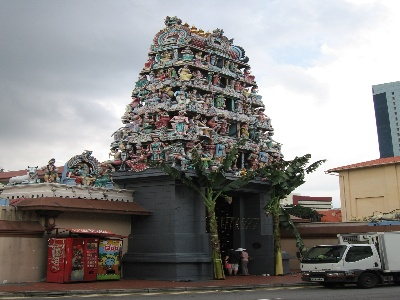gopura: (113, 10, 291, 173)
